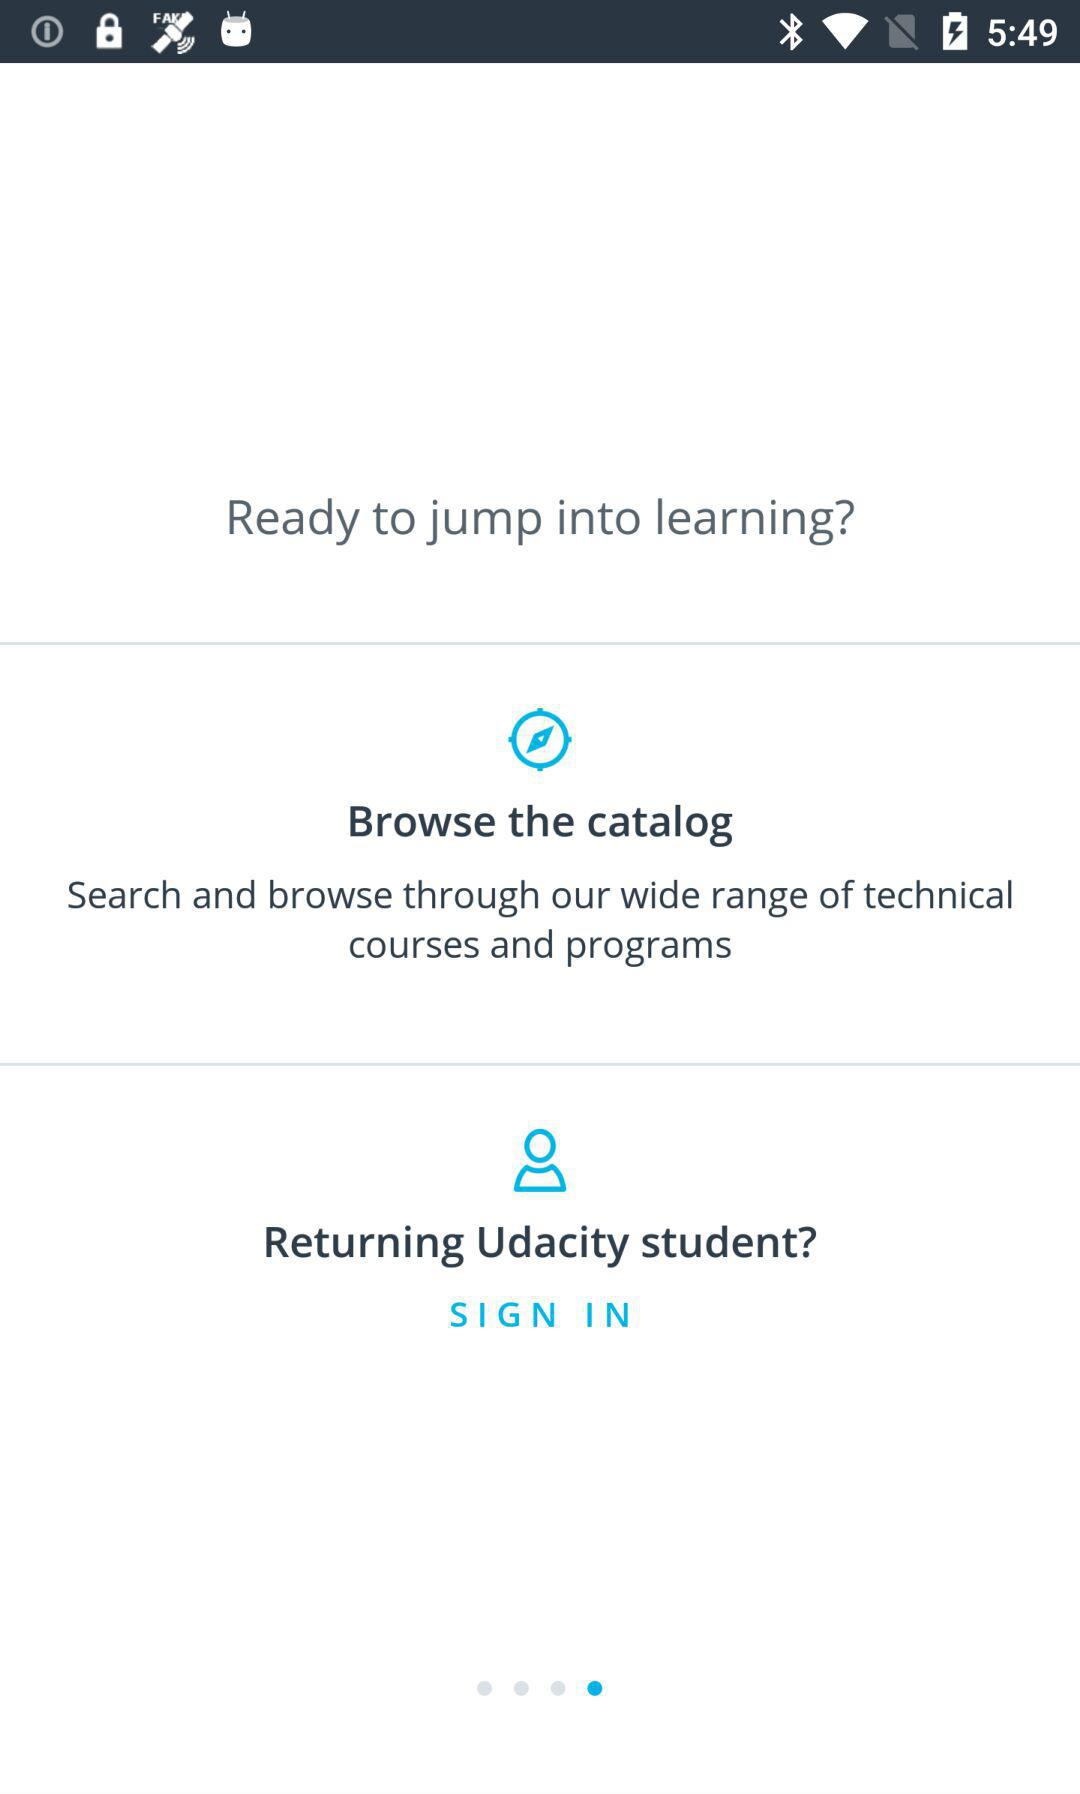Icon: (507, 707, 574, 774), (512, 1128, 570, 1194)
PageIndicator: (477, 1677, 605, 1698)
Text: (67, 878, 1013, 970), (228, 497, 856, 548), (265, 1222, 817, 1269), (348, 803, 735, 850), (450, 1299, 632, 1330)
UpperTaskBar: (1, 1, 1080, 64)
